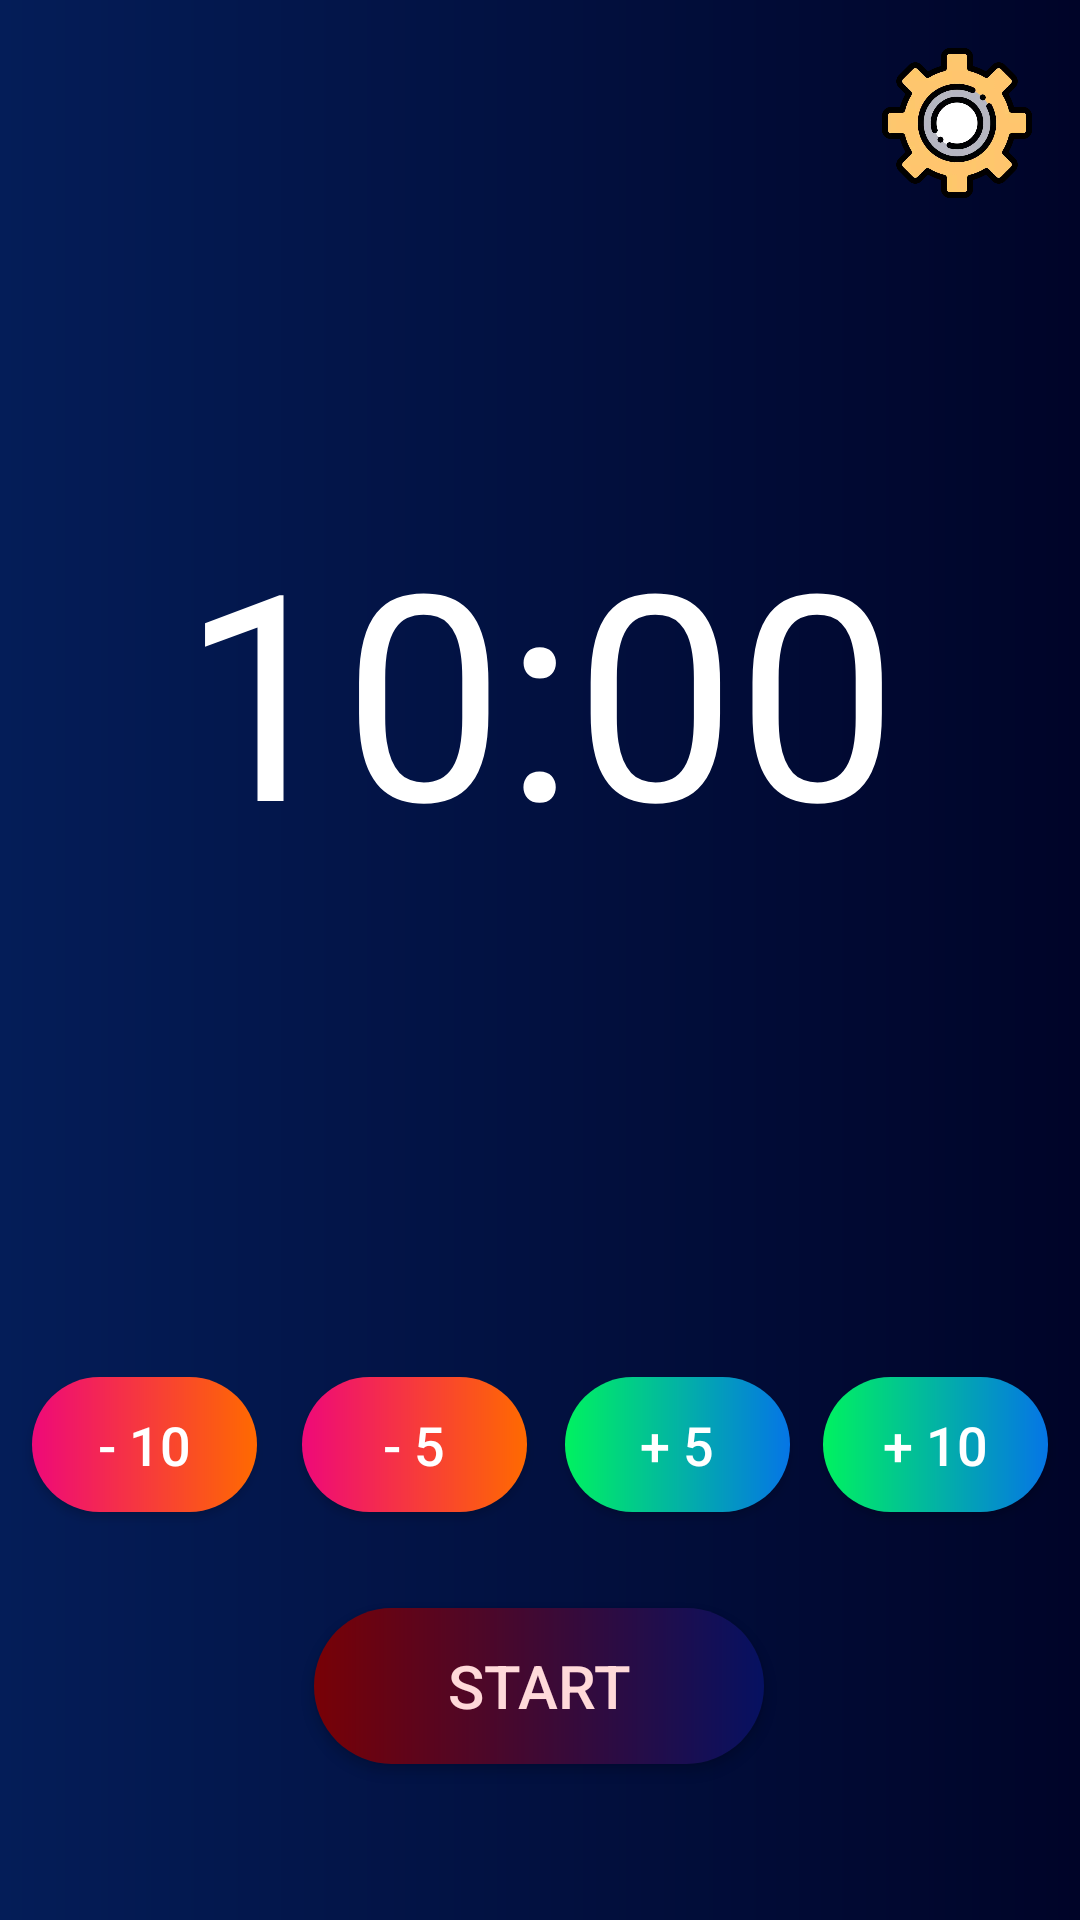

Icons on this 1080 × 1920 Android screen, each with the point to tap as [x,y]:
gear: [957,123]
